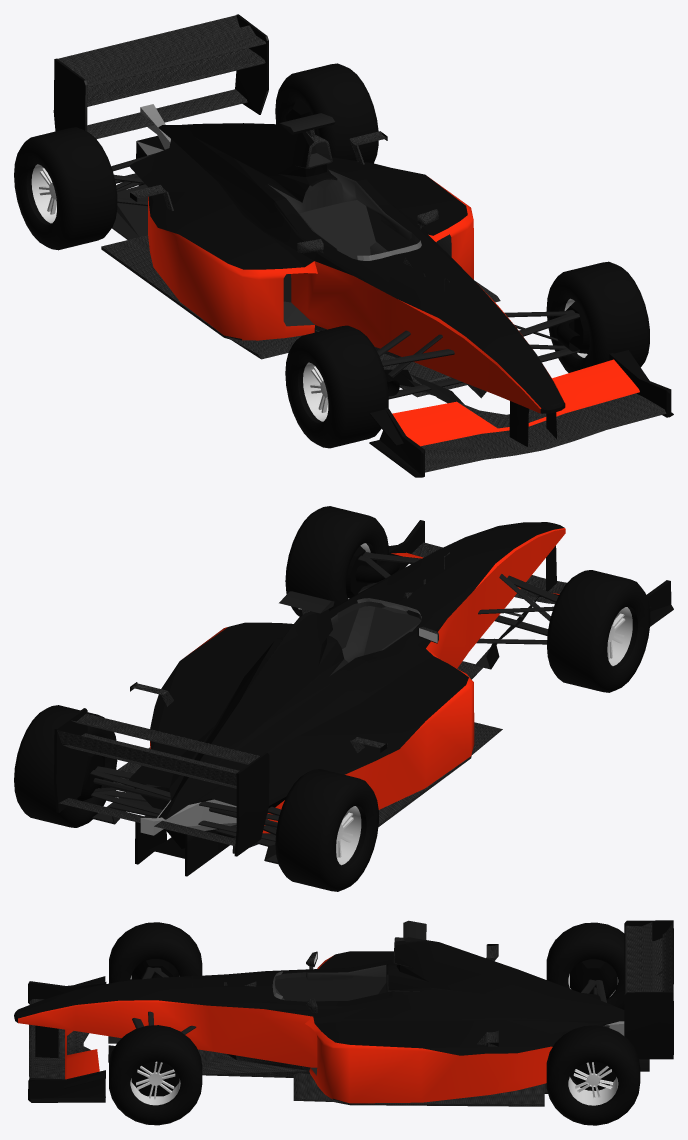
The picture shows the model from 3 angles, top to bottom: view 1: azimuth 30°, elevation 25°; view 2: azimuth 150°, elevation 25°; view 3: azimuth 270°, elevation 25°; orthographic projection. The views are drawn at different scales.
Visible parts, largest first — view 1: Chassis, Wheel_RR, Wheel_FR, Wheel_FL, Wheel_RL; view 2: Chassis, Wheel_FR, Wheel_RR, Wheel_FL, Wheel_RL; view 3: Chassis, Wheel_RL, Wheel_FL, Wheel_FR, Wheel_RR, Rim1, Rim3.
Boxes of the visible parts, bbox=[...] form: Chassis: bbox=[53, 14, 673, 477]; Wheel_RR: bbox=[14, 127, 117, 250]; Wheel_FR: bbox=[285, 325, 388, 448]; Wheel_FL: bbox=[546, 261, 649, 372]; Wheel_RL: bbox=[275, 63, 378, 163]; Chassis: bbox=[54, 520, 673, 876]; Wheel_FR: bbox=[547, 570, 650, 692]; Wheel_RR: bbox=[275, 769, 378, 891]; Wheel_FL: bbox=[285, 506, 388, 616]; Wheel_RL: bbox=[14, 705, 117, 827]; Chassis: bbox=[14, 920, 673, 1106]; Wheel_RL: bbox=[546, 1025, 640, 1125]; Wheel_FL: bbox=[109, 1025, 202, 1125]; Wheel_FR: bbox=[109, 922, 202, 983]; Wheel_RR: bbox=[546, 922, 625, 1009]; Rim1: bbox=[136, 1061, 175, 1099]; Rim3: bbox=[573, 1062, 613, 1098].
Size of what is drawn, in the model's own units: 46.81 by 105 by 24.16.
14 materials, 3 textured.
